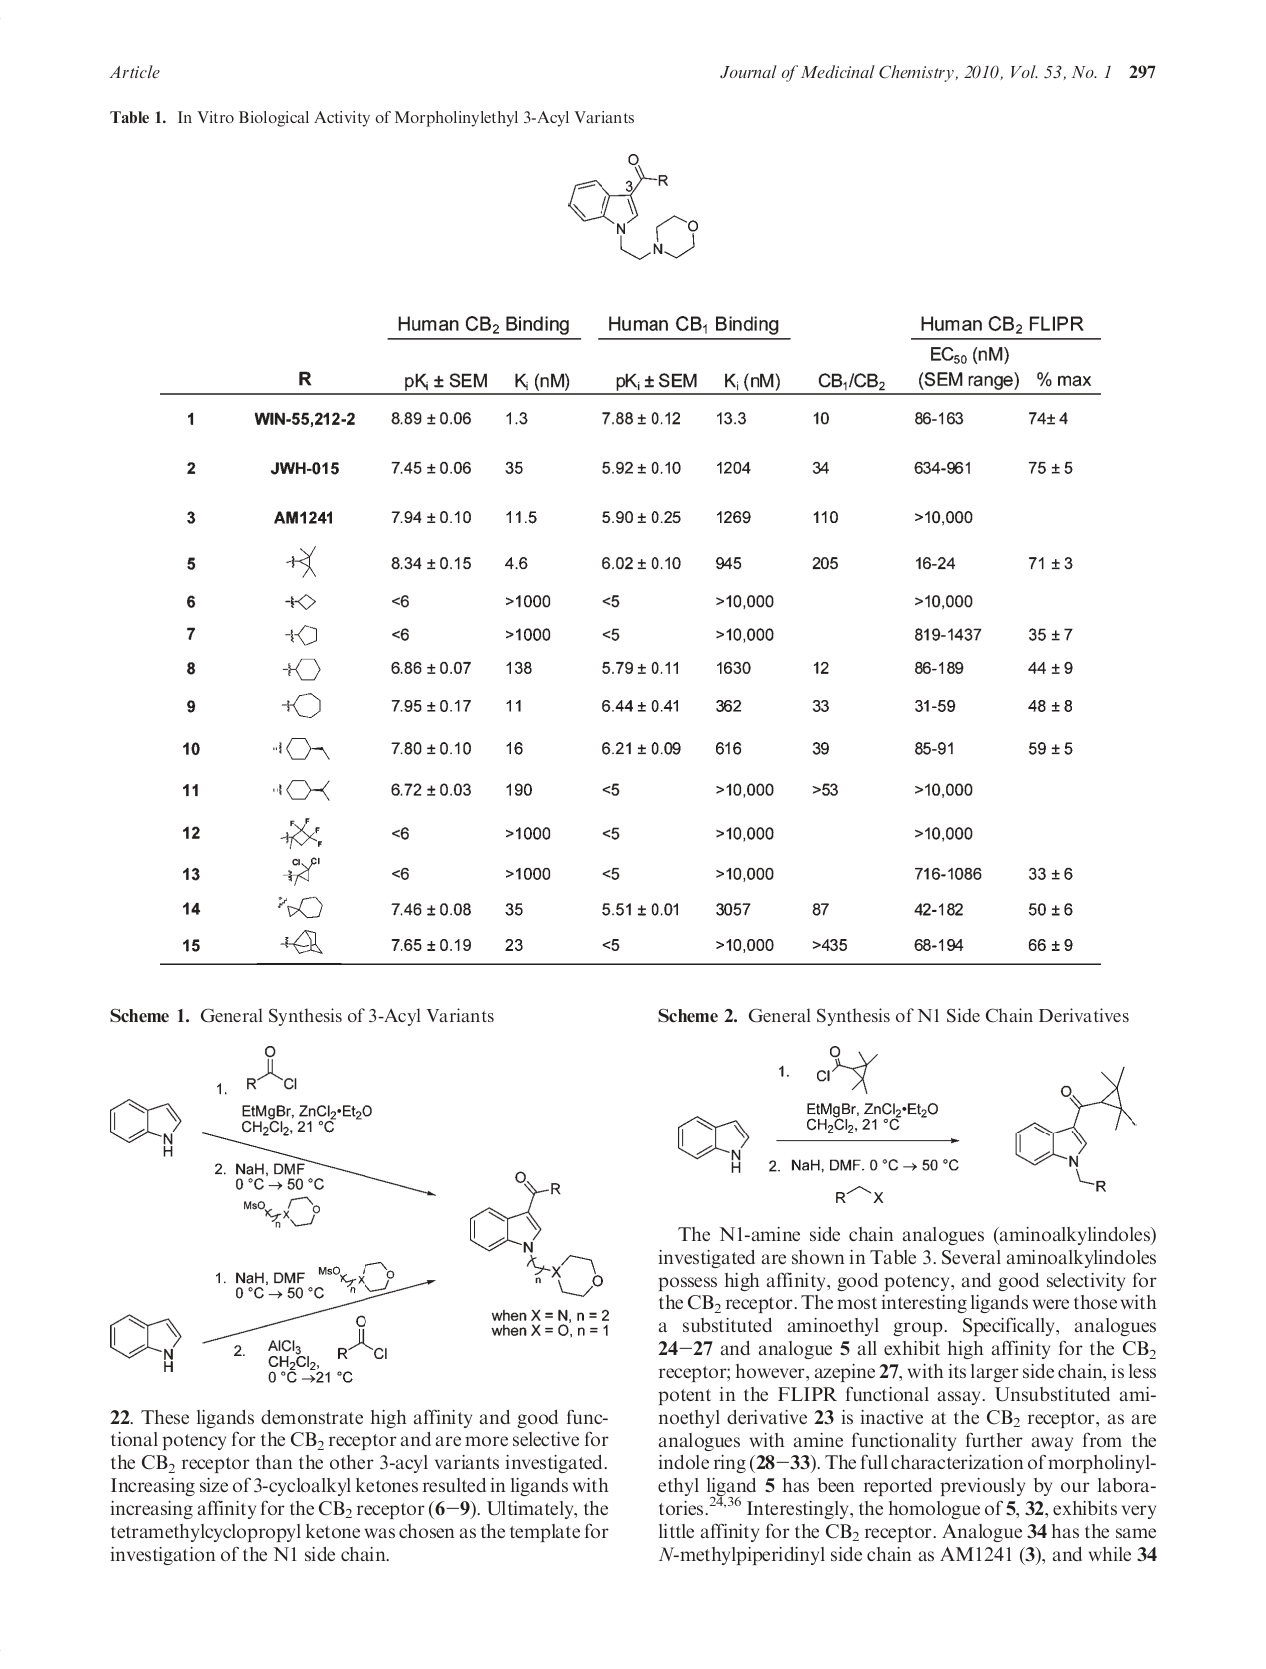exist_molecular: (465, 1169, 602, 1301), (1013, 1065, 1137, 1194), (567, 153, 699, 261), (106, 1097, 182, 1160), (677, 1114, 751, 1174), (106, 1315, 181, 1375), (817, 1045, 880, 1094), (243, 1044, 298, 1096), (316, 1259, 394, 1295), (242, 1196, 322, 1230), (335, 1314, 388, 1360), (271, 777, 332, 805), (271, 737, 331, 763), (278, 817, 323, 850), (277, 894, 324, 920), (281, 855, 320, 886), (281, 930, 324, 956), (282, 692, 322, 719), (285, 547, 318, 578), (282, 656, 320, 682), (283, 624, 319, 648), (285, 593, 316, 612)
